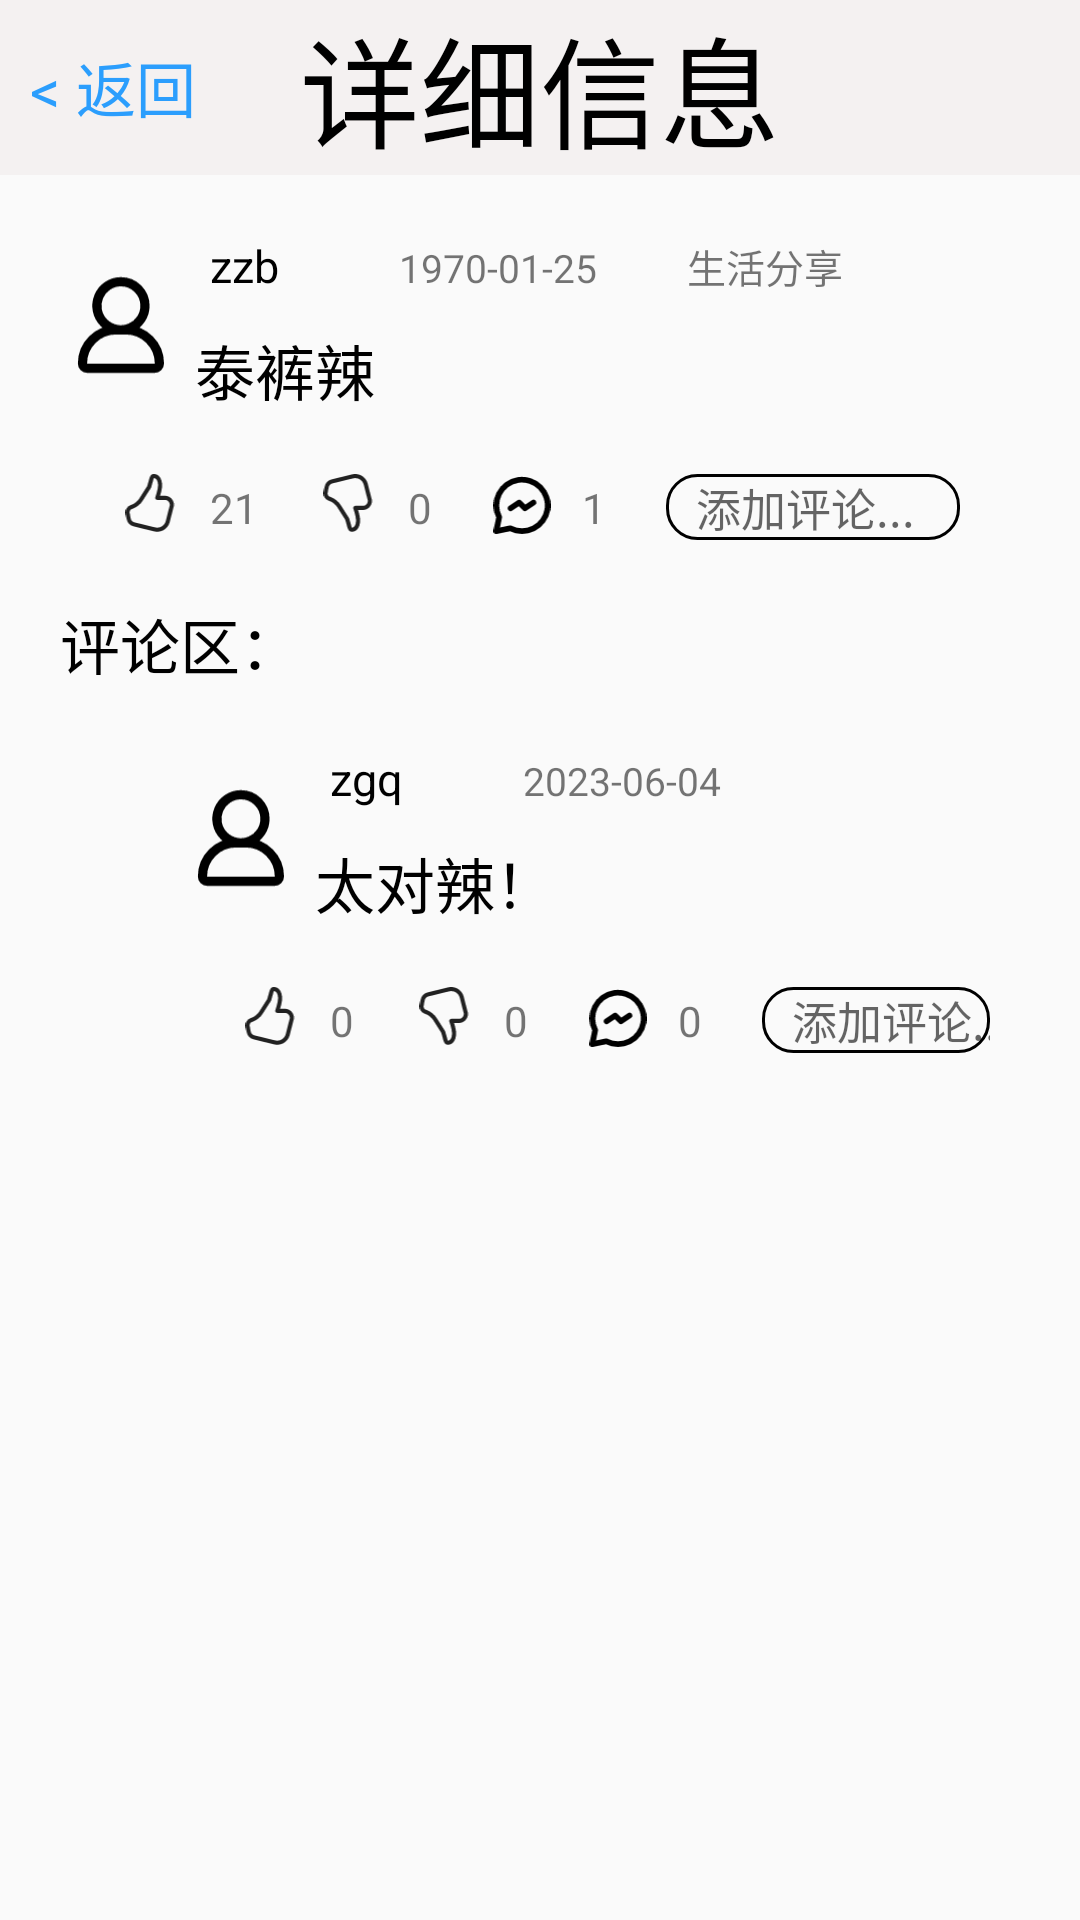

Screen size 1080w x 1920h. Icon name, then its box in pixels as region(x1, y1, x2, y2):
dislike: region(323, 474, 373, 532), region(419, 987, 469, 1045)
like: region(125, 474, 175, 532), region(245, 987, 295, 1045)
